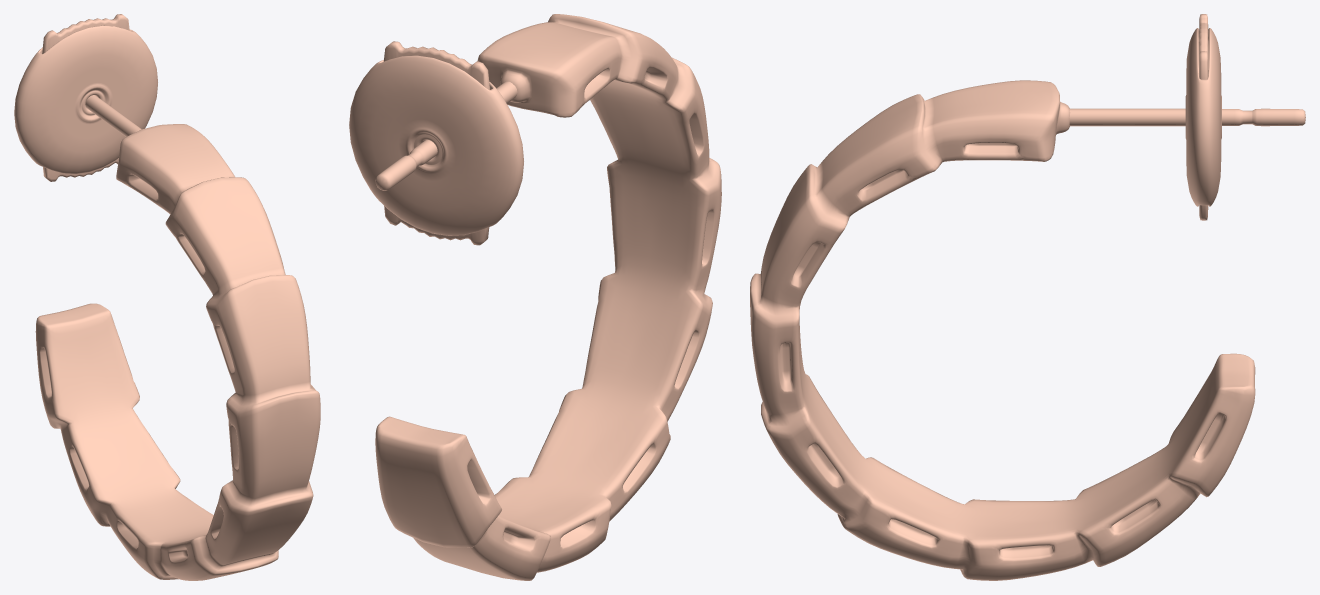
The model's file is LV_Earrings.glb.
3 views of the same model, side by side, from view 1: azimuth 30°, elevation 25°; view 2: azimuth 150°, elevation 25°; view 3: azimuth 270°, elevation 25° (orthographic). The views are drawn at different scales.
Visible parts, largest first — view 1: corpo_low, fermo01_low, fermo02_low, stanghetta_low; view 2: corpo_low, fermo01_low, stanghetta_low, fermo02_low, fermo03_low; view 3: corpo_low, fermo01_low, stanghetta_low.
Part boxes in pixels (x1,y1,x2,y2): corpo_low: (35,124,320,580); fermo01_low: (14,25,157,173); fermo02_low: (42,14,129,53); stanghetta_low: (85,95,141,136); corpo_low: (375,14,721,580); fermo01_low: (349,55,523,235); stanghetta_low: (375,81,517,190); fermo02_low: (383,41,490,89); fermo03_low: (384,206,489,245); corpo_low: (750,80,1255,580); fermo01_low: (1185,28,1221,206); stanghetta_low: (1069,108,1305,126).
Bounding box in the file's own units: 0.00705 × 0.0227 × 0.0214.
Materials: 1 (1 with a texture image).
